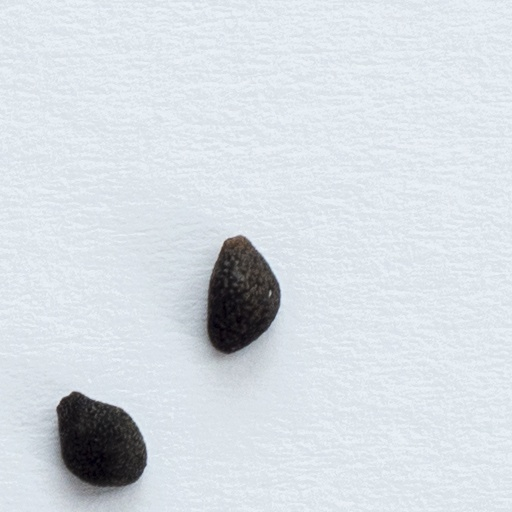Convolvulus-poly: (204, 232, 281, 354), (56, 391, 148, 486)
